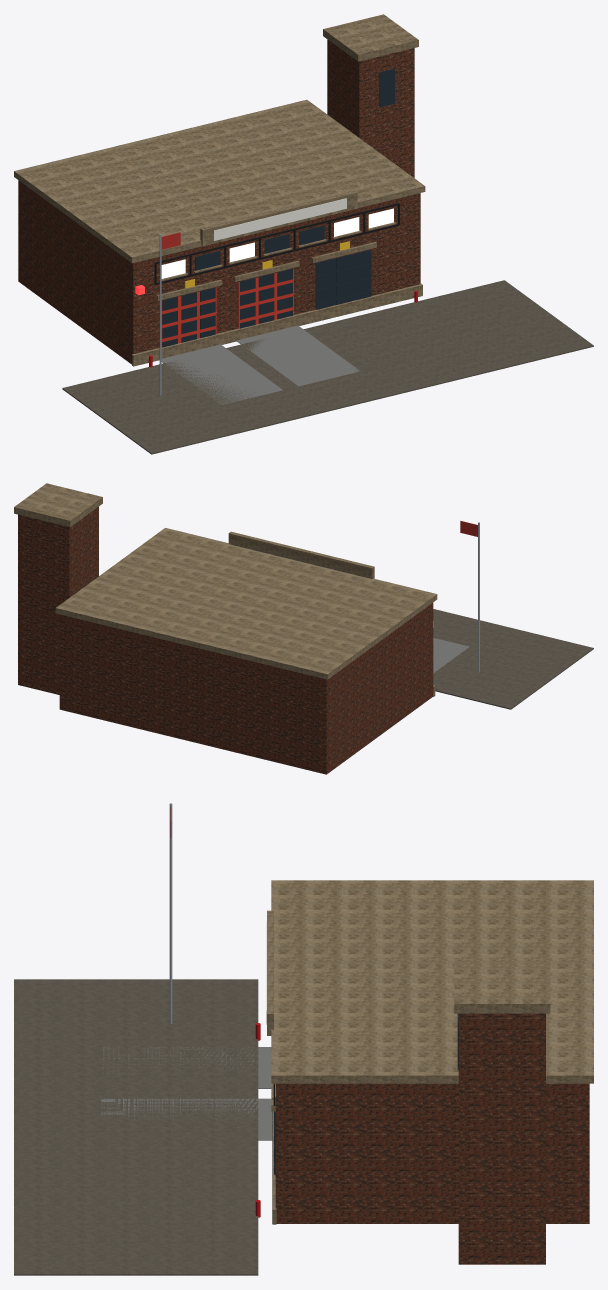
File: OT_FireStation_A.glb
3 views of the same model, one above another, from view 1: azimuth 30°, elevation 25°; view 2: azimuth 150°, elevation 25°; view 3: azimuth 270°, elevation 25° (orthographic). The views are drawn at different scales.
Parts seen in each view (by area): view 1: OT_FireStation_A_Stone, OT_FireStation_A_Pavement, OT_FireStation_A_Brick, OT_FireStation_A_Glass__22303a, OT_FireStation_A_Apron__7a7a78, OT_FireStation_A_BayDoorFire__d23a2a, OT_FireStation_A_Frame__18191c, OT_FireStation_A_InteriorWarm__ffdca8, OT_FireStation_A_SignFace__f2efe6; view 2: OT_FireStation_A_Brick, OT_FireStation_A_Stone, OT_FireStation_A_Pavement, OT_FireStation_A_Apron__7a7a78; view 3: OT_FireStation_A_Pavement, OT_FireStation_A_Stone, OT_FireStation_A_Brick, OT_FireStation_A_Apron__7a7a78, OT_FireStation_A_SteelGrey__9aa0a6.
Boxes of the visible parts, <box> form: OT_FireStation_A_Stone: <box>14,14,425,366</box>; OT_FireStation_A_Pavement: <box>62,280,593,454</box>; OT_FireStation_A_Brick: <box>18,39,420,364</box>; OT_FireStation_A_Glass__22303a: <box>162,68,394,347</box>; OT_FireStation_A_Apron__7a7a78: <box>158,325,360,404</box>; OT_FireStation_A_BayDoorFire__d23a2a: <box>161,268,293,347</box>; OT_FireStation_A_Frame__18191c: <box>154,203,399,284</box>; OT_FireStation_A_InteriorWarm__ffdca8: <box>161,208,393,278</box>; OT_FireStation_A_SignFace__f2efe6: <box>214,198,346,240</box>; OT_FireStation_A_Brick: <box>18,506,433,774</box>; OT_FireStation_A_Stone: <box>14,483,437,696</box>; OT_FireStation_A_Pavement: <box>433,609,593,709</box>; OT_FireStation_A_Apron__7a7a78: <box>433,638,469,672</box>; OT_FireStation_A_Pavement: <box>14,979,258,1275</box>; OT_FireStation_A_Stone: <box>267,880,593,1224</box>; OT_FireStation_A_Brick: <box>275,1013,589,1264</box>; OT_FireStation_A_Apron__7a7a78: <box>101,1047,272,1140</box>; OT_FireStation_A_SteelGrey__9aa0a6: <box>169,803,172,1023</box>.
Size of the model in its own units: 40 by 16.6 by 33.25.
14 materials, 3 textured.
